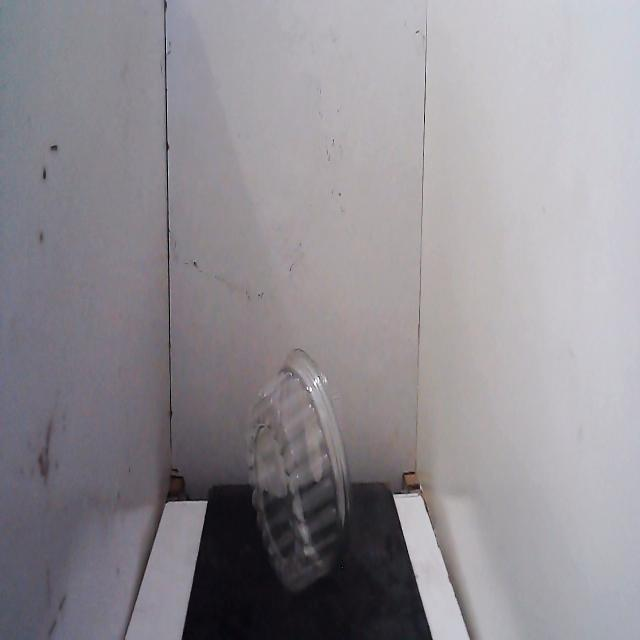plastico: (239, 332, 357, 604)
